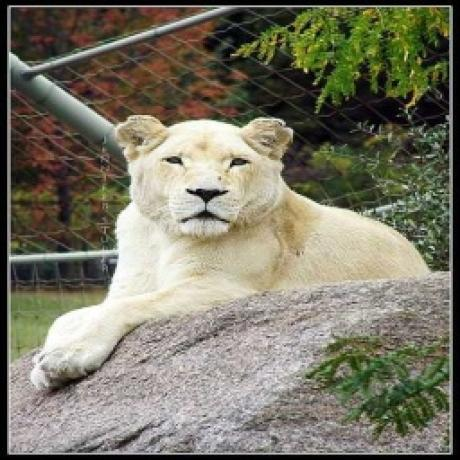Lion: (32, 114, 436, 394)
